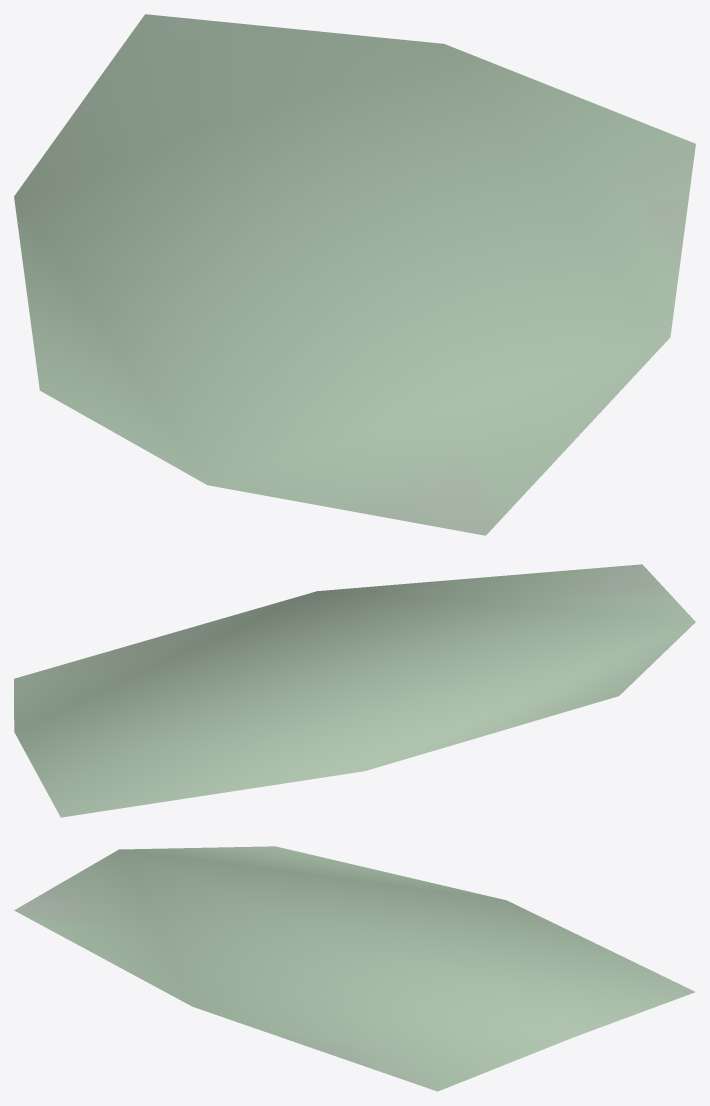
The model's file is TROLLHOLE02_HOLECAP143.fbx.
3 views of the same model, one above another, from view 1: azimuth 30°, elevation 25°; view 2: azimuth 150°, elevation 25°; view 3: azimuth 270°, elevation 25° (orthographic). The views are drawn at different scales.
Parts seen in each view (by area): view 1: TROLLHOLE02_HOLECAP143; view 2: TROLLHOLE02_HOLECAP143; view 3: TROLLHOLE02_HOLECAP143.
Part boxes in pixels (x1=…): TROLLHOLE02_HOLECAP143: x1=14, y1=14, x2=695, y2=535; TROLLHOLE02_HOLECAP143: x1=14, y1=564, x2=695, y2=817; TROLLHOLE02_HOLECAP143: x1=14, y1=846, x2=695, y2=1091.
Size of the model in its own units: 29322 by 2263 by 39675.
1 material, 1 textured.
